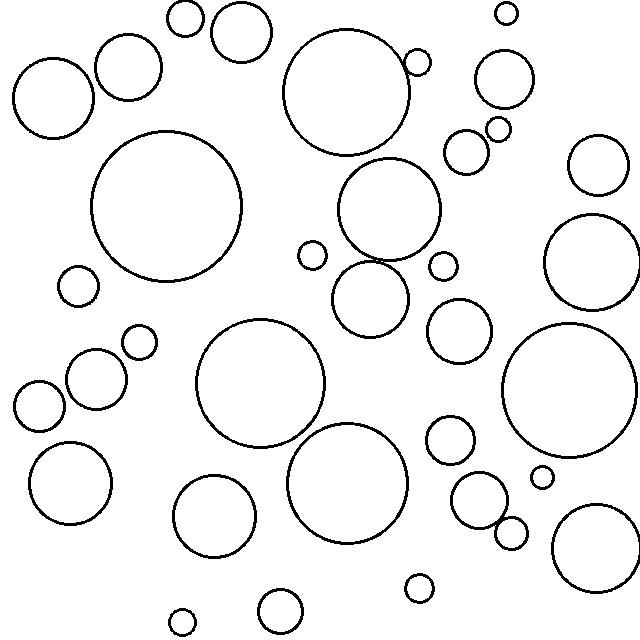circle: (87, 126, 247, 287), (498, 318, 640, 461), (193, 314, 330, 453), (281, 25, 414, 160), (284, 417, 412, 548), (336, 155, 449, 265), (541, 211, 640, 312), (547, 501, 640, 597), (171, 470, 266, 560), (26, 438, 118, 530), (12, 54, 96, 142), (329, 258, 413, 341), (93, 29, 169, 105), (423, 294, 496, 369), (62, 343, 133, 415), (564, 130, 633, 200), (472, 47, 538, 112), (210, 0, 275, 65), (449, 469, 513, 532), (9, 376, 69, 435), (424, 412, 480, 470), (255, 584, 308, 639), (441, 126, 492, 180), (54, 261, 103, 313), (119, 320, 162, 364), (162, 0, 207, 39), (493, 514, 532, 553), (401, 570, 439, 608), (164, 603, 203, 639), (295, 238, 329, 273), (427, 249, 462, 283), (402, 47, 435, 79), (483, 115, 514, 146), (527, 462, 558, 493), (492, 0, 521, 28)
